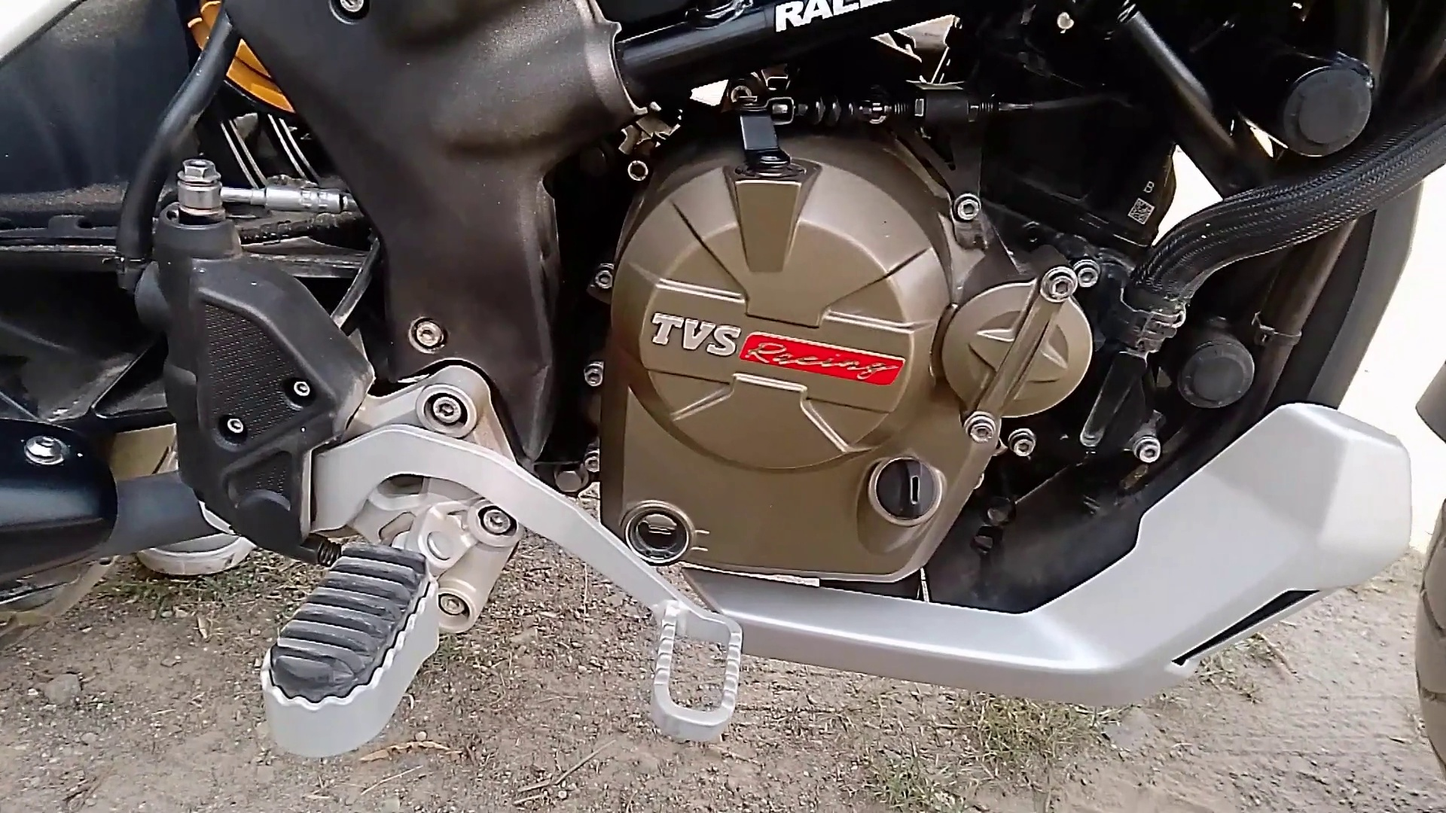bike-engine: (592, 117, 1122, 587)
bike-engine-level: (613, 496, 691, 568)
bike-oil-cap: (856, 454, 956, 532)
